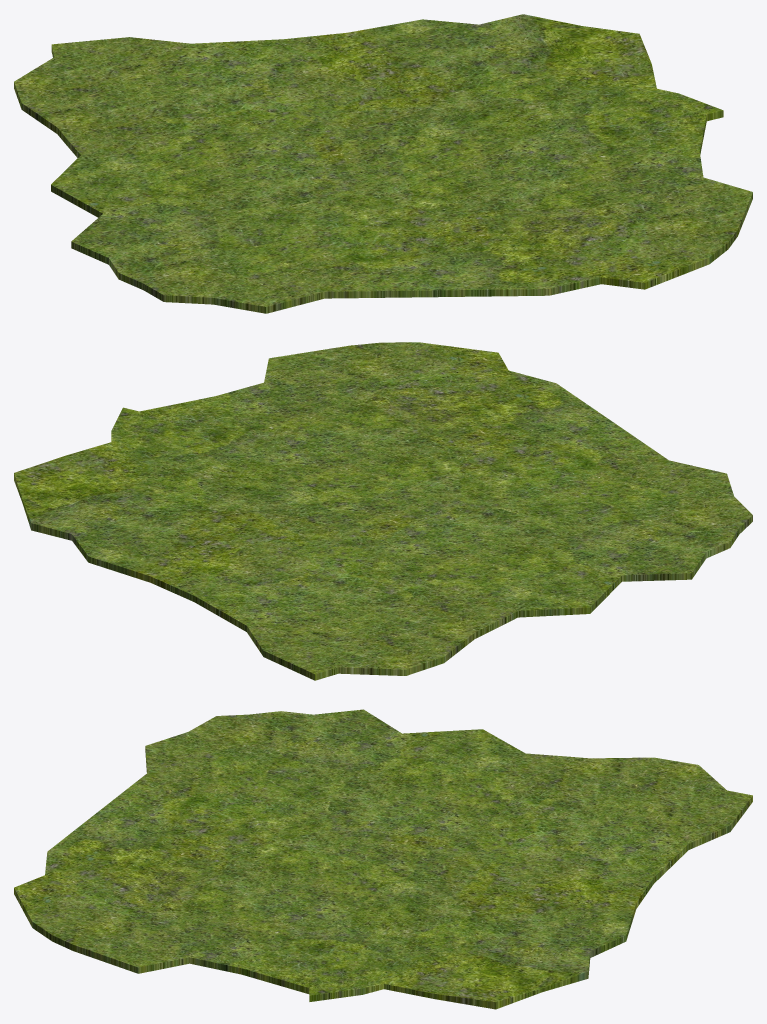
File: pasto.obj
The picture shows the model from 3 angles, top to bottom: view 1: azimuth 30°, elevation 25°; view 2: azimuth 150°, elevation 25°; view 3: azimuth 270°, elevation 25°; orthographic projection. The views are drawn at different scales.
Visible parts, largest first — view 1: Plano; view 2: Plano; view 3: Plano.
Boxes of the visible parts, bbox=[...] form: Plano: bbox=[14, 14, 752, 313]; Plano: bbox=[14, 342, 752, 680]; Plano: bbox=[14, 709, 752, 1009].
Bounding box in the file's own units: 13.41 × 0.1542 × 14.29.
Materials: 1 (1 with a texture image).
